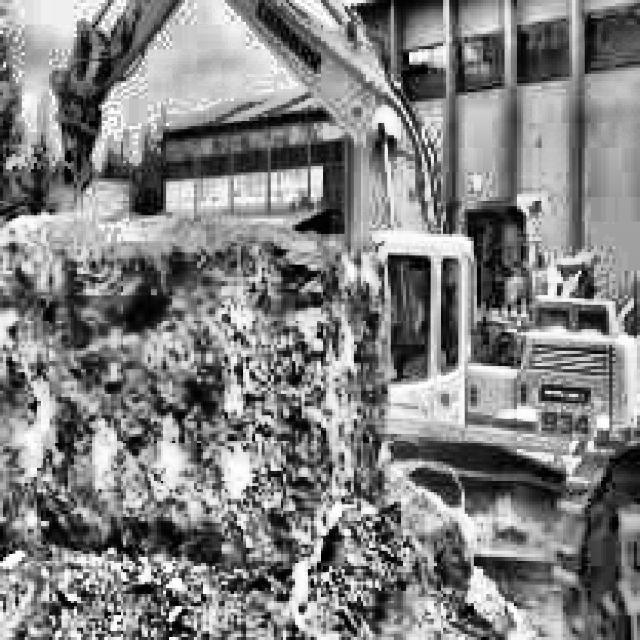excavator: (43, 0, 640, 548)
